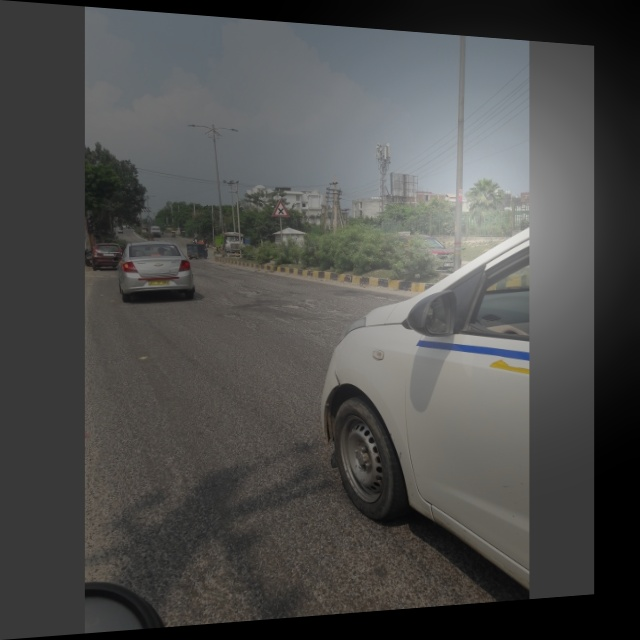Cross_Road: (269, 193, 293, 219)
